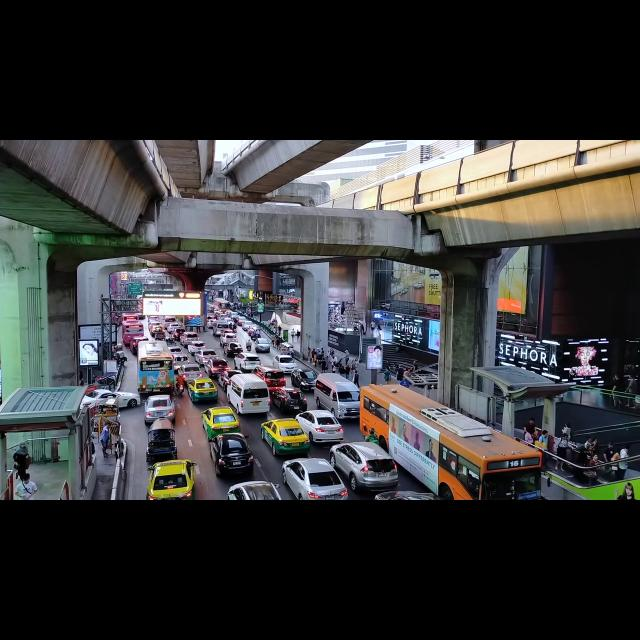bus: (360, 385, 541, 499), (138, 341, 174, 392), (122, 320, 144, 345), (214, 298, 231, 312), (122, 313, 140, 321)
car: (330, 442, 398, 490), (282, 458, 347, 499), (147, 460, 196, 499), (261, 418, 310, 455), (209, 434, 253, 475), (296, 410, 343, 442), (319, 376, 355, 416), (202, 407, 240, 438), (83, 389, 140, 407), (227, 481, 281, 499), (143, 395, 175, 423), (252, 365, 286, 391), (270, 388, 307, 411), (187, 377, 218, 402), (291, 369, 317, 390), (374, 491, 442, 499), (218, 370, 242, 391), (205, 357, 230, 377), (234, 352, 260, 371), (273, 355, 297, 372), (178, 364, 202, 381), (194, 349, 217, 366), (172, 353, 189, 373), (130, 336, 148, 354), (179, 332, 199, 347), (223, 342, 242, 356), (220, 332, 238, 346), (188, 340, 205, 354), (254, 338, 270, 352), (150, 325, 165, 339), (171, 326, 185, 340), (165, 323, 180, 333), (148, 321, 162, 331), (163, 316, 177, 325), (247, 325, 259, 335), (147, 316, 160, 324), (206, 319, 216, 329), (168, 346, 182, 353), (241, 321, 251, 330), (221, 329, 236, 335), (238, 316, 246, 325), (231, 311, 239, 319)
